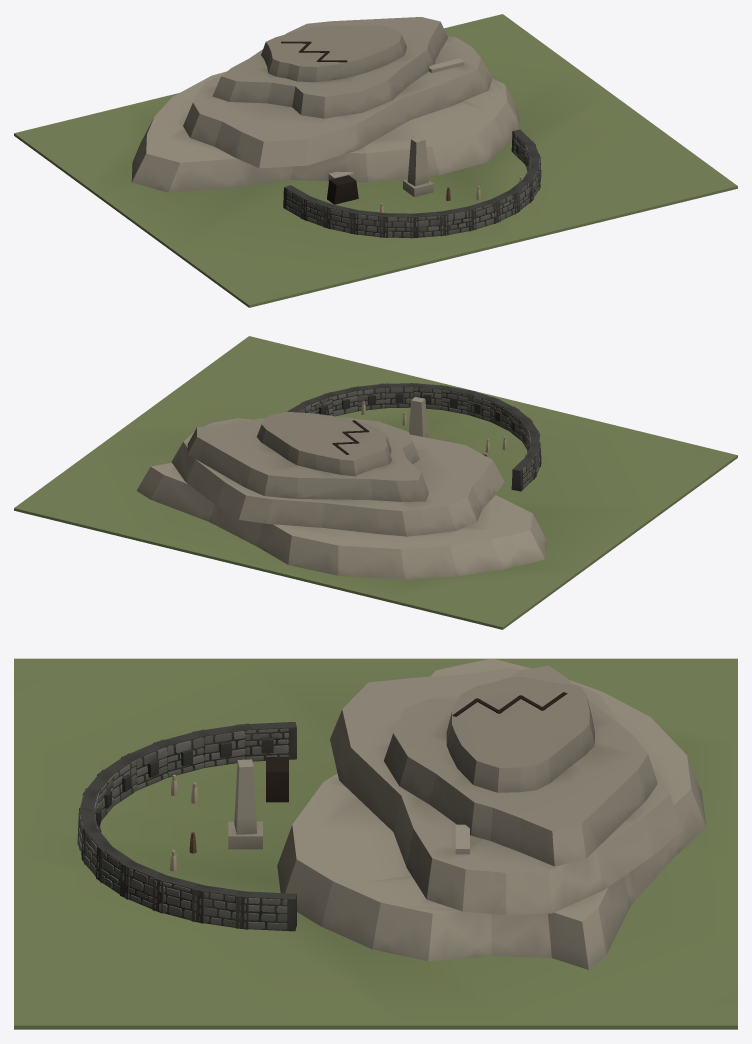
The model's file is qenqo.glb.
3 views of the same model, one above another, from view 1: azimuth 30°, elevation 25°; view 2: azimuth 150°, elevation 25°; view 3: azimuth 270°, elevation 25° (orthographic). The views are drawn at different scales.
Parts seen in each view (by area): view 1: p0_rock, p1_walls, p2_stone; view 2: p0_rock, p1_walls, p2_stone; view 3: p0_rock, p1_walls, p2_stone.
Boxes of the visible parts, x1,y1,x2,y2 form: p0_rock: [14, 14, 737, 307]; p1_walls: [281, 41, 541, 238]; p2_stone: [377, 136, 522, 212]; p0_rock: [14, 336, 737, 629]; p1_walls: [235, 383, 541, 491]; p2_stone: [361, 397, 507, 452]; p0_rock: [14, 658, 737, 1029]; p1_walls: [77, 692, 567, 931]; p2_stone: [170, 759, 262, 871].
Bounding box in the file's own units: 60 × 9.77 × 50.
